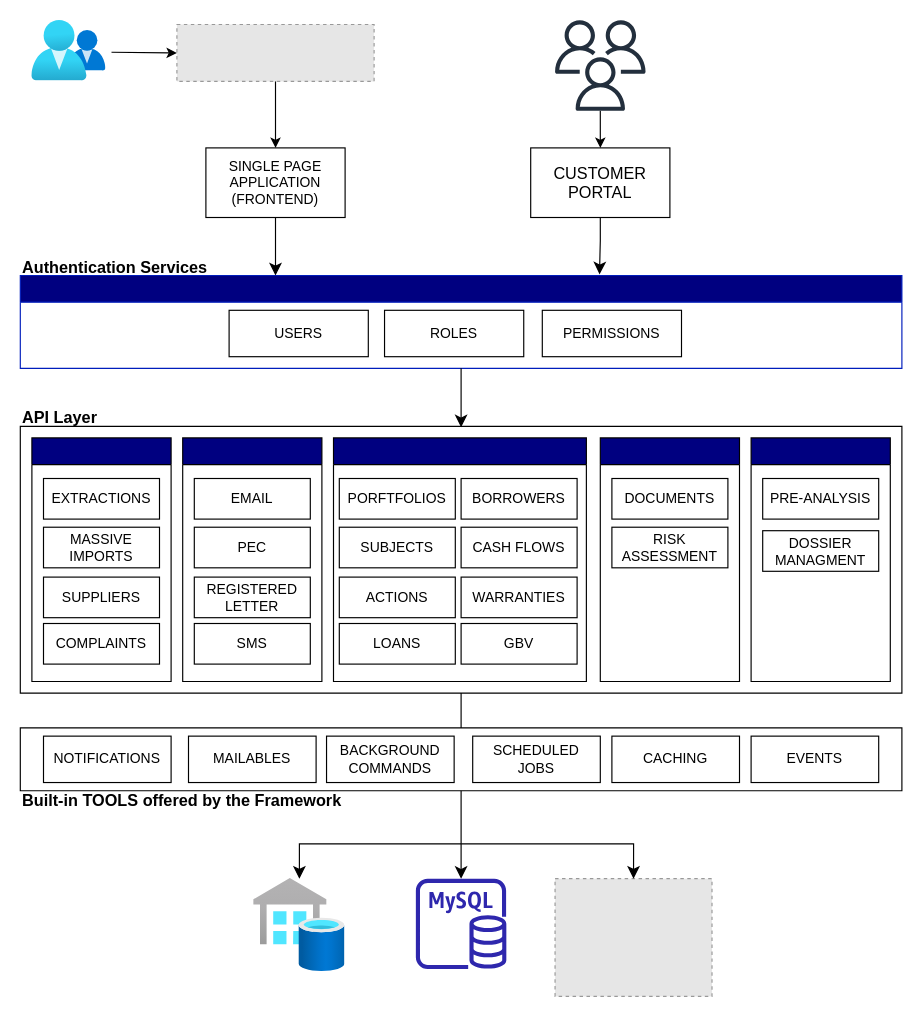
The diagram is 922 pixels wide and 1016 high, and some of its shapes have lost their labels. Grey dashed boxes stand in for pictures. The box of each missing label's shape, as (x1, y1, x2, y2) in pixels:
AML: (599, 437, 740, 682)
AUTH: (19, 274, 902, 368)
COMMUNICATIONS: (182, 437, 322, 682)
NPL: (332, 437, 586, 682)
OTHER: (31, 437, 171, 682)
PERFORMING: (750, 437, 890, 682)
